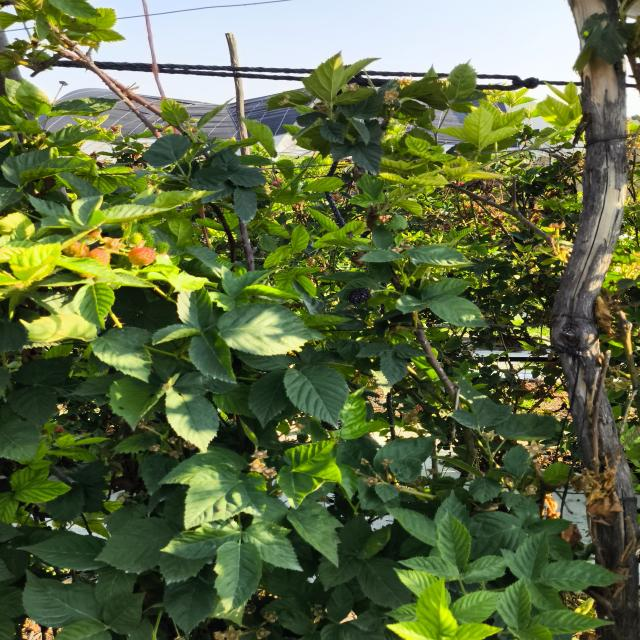maduro: (348, 288, 371, 304), (321, 421, 338, 431)
naranja: (128, 246, 156, 266), (63, 241, 89, 257), (88, 248, 110, 266)
verde: (131, 233, 144, 246), (144, 234, 155, 248), (155, 242, 169, 253)
